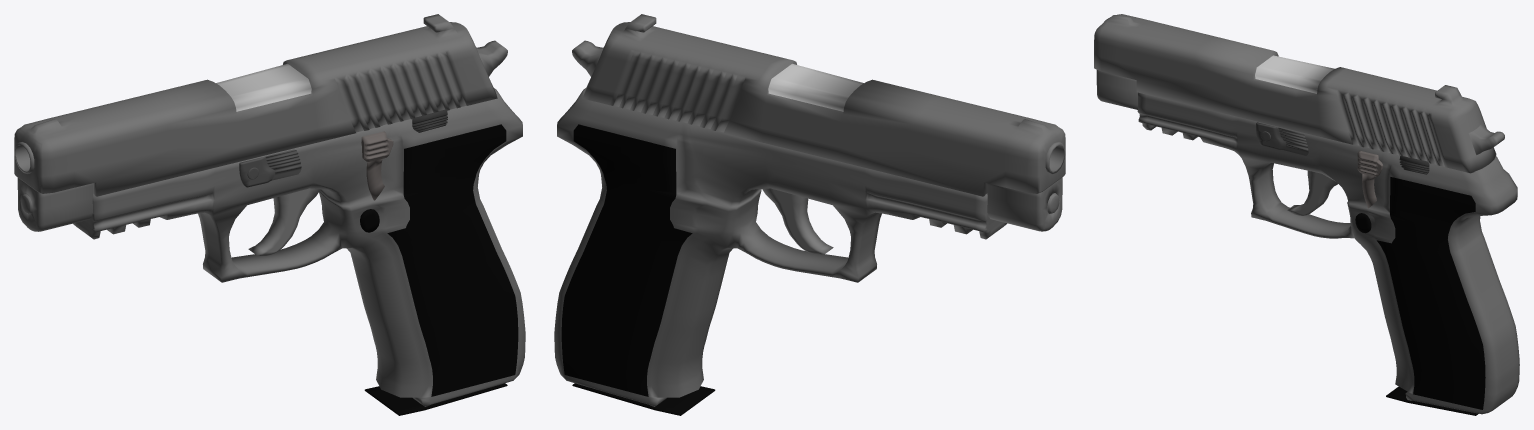
Rendered from pistola_9mm.glb.
3 renders of one model, left to right at view 1: azimuth 30°, elevation 25°; view 2: azimuth 150°, elevation 25°; view 3: azimuth 330°, elevation 25°, orthographic. The views are drawn at different scales.
Visible parts, largest first — view 1: Object_7, Object_4, Object_3, Object_2, Object_8, Object_9, Object_11, Object_12, Object_6, Object_10; view 2: Object_7, Object_4, Object_3, Object_2, Object_8, Object_9, Object_6; view 3: Object_7, Object_4, Object_3, Object_8, Object_2, Object_11, Object_9, Object_12, Object_6, Object_10.
Boxes of the visible parts, x1,y1,x2,y2 form: Object_7: (14, 14, 507, 196); Object_4: (73, 88, 525, 406); Object_3: (387, 124, 518, 396); Object_2: (17, 177, 92, 231); Object_8: (216, 63, 311, 111); Object_9: (248, 188, 320, 255); Object_11: (239, 149, 301, 187); Object_12: (361, 131, 393, 200); Object_6: (364, 383, 507, 415); Object_10: (412, 109, 447, 132); Object_7: (572, 14, 1065, 196); Object_4: (554, 88, 1007, 406); Object_3: (561, 124, 692, 396); Object_2: (987, 177, 1062, 231); Object_8: (768, 63, 863, 111); Object_9: (762, 188, 833, 254); Object_6: (572, 383, 715, 415); Object_7: (1094, 14, 1504, 173); Object_4: (1137, 92, 1519, 414); Object_3: (1377, 177, 1485, 409); Object_8: (1255, 55, 1334, 93); Object_2: (1096, 70, 1137, 109); Object_11: (1256, 122, 1308, 155); Object_9: (1287, 170, 1337, 215); Object_12: (1357, 150, 1382, 208); Object_6: (1386, 386, 1478, 415); Object_10: (1399, 156, 1429, 174).
Bounding box in the file's own units: 0.229 × 0.1657 × 0.0279.
Materials: 11 (10 with a texture image).
